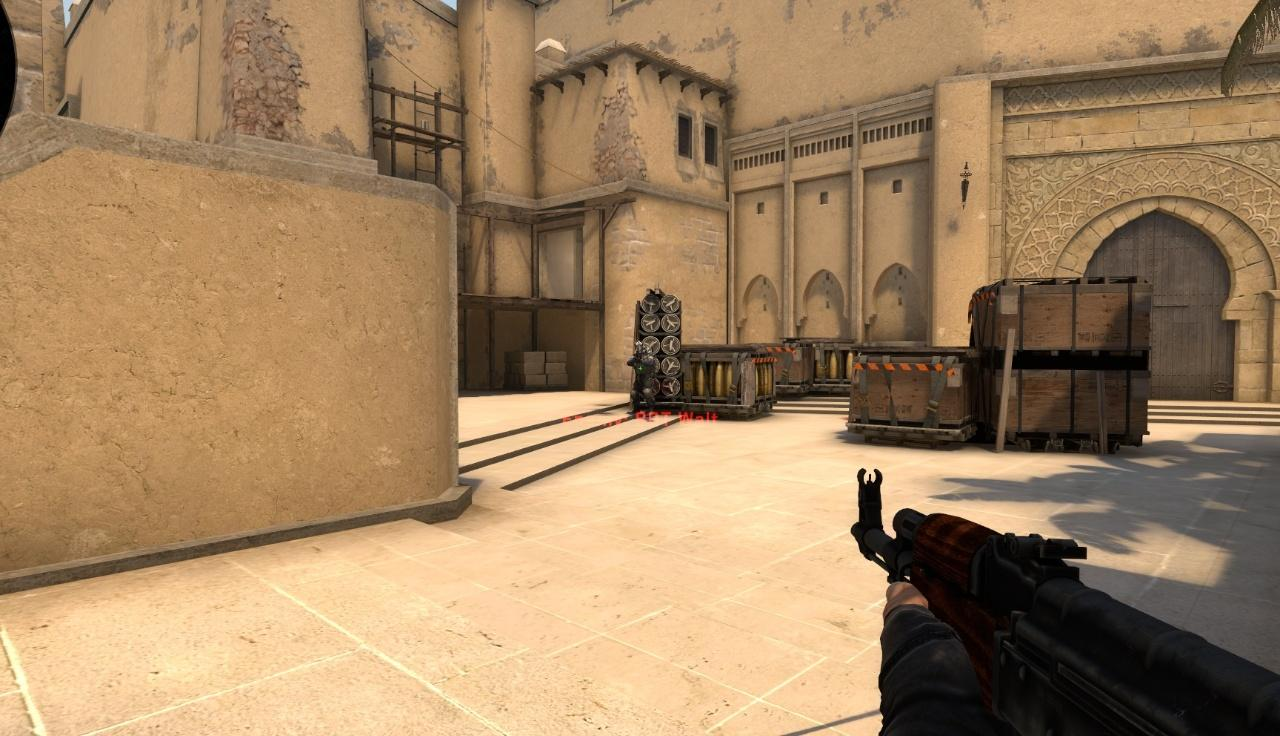ct: (628, 341, 656, 413)
cthead: (635, 340, 645, 354)
rifle: (851, 468, 1280, 736)
